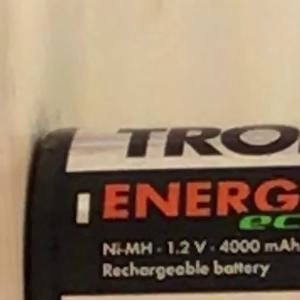keyword: (94, 233, 157, 264)
